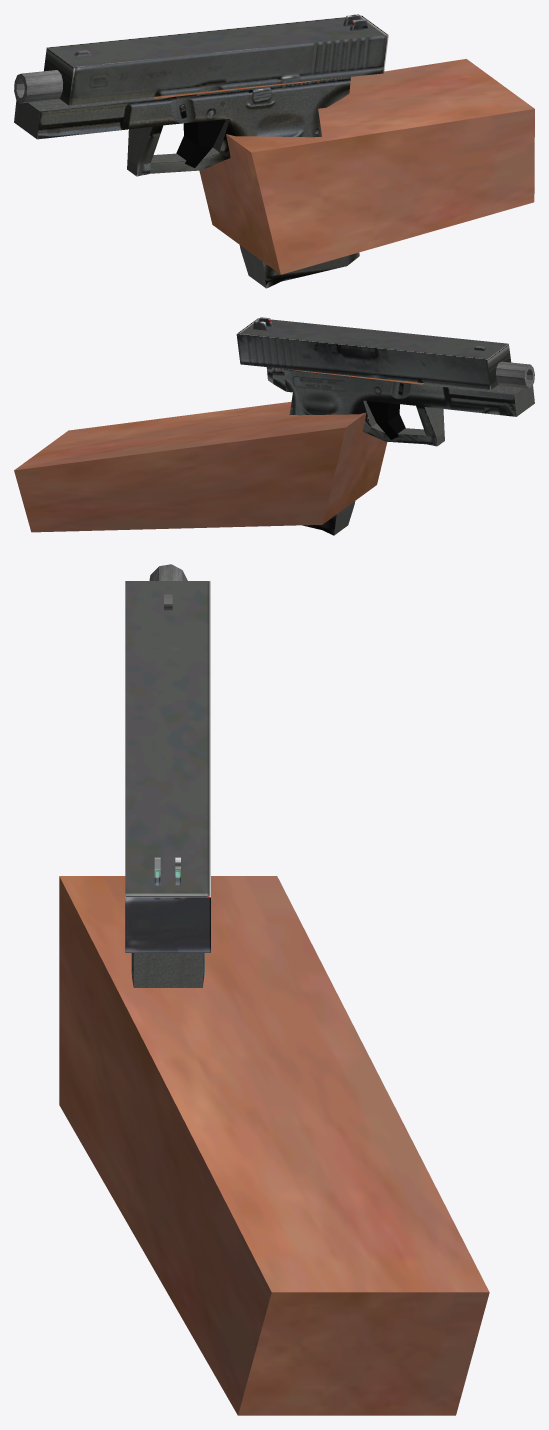
The model's file is pistol_000011.obj.
3 renders of one model, top to bottom at view 1: azimuth 30°, elevation 25°; view 2: azimuth 150°, elevation 25°; view 3: azimuth 270°, elevation 25°, orthographic. The views are drawn at different scales.
Visible parts, largest first — view 1: Cube, Cube.001, Cube.003; view 2: Cube, Cube.001, Cube.003; view 3: Cube, Cube.001.
Part boxes in pixels (<box>): Cube: <box>14,59,534,288</box>; Cube.001: <box>44,14,388,105</box>; Cube.003: <box>176,119,225,167</box>; Cube: <box>14,361,534,535</box>; Cube.001: <box>236,317,511,389</box>; Cube.003: <box>366,401,405,439</box>; Cube: <box>59,564,489,1415</box>; Cube.001: <box>125,581,210,952</box>.
Size of the model in its own units: 1.69 by 0.8325 by 0.7214.
